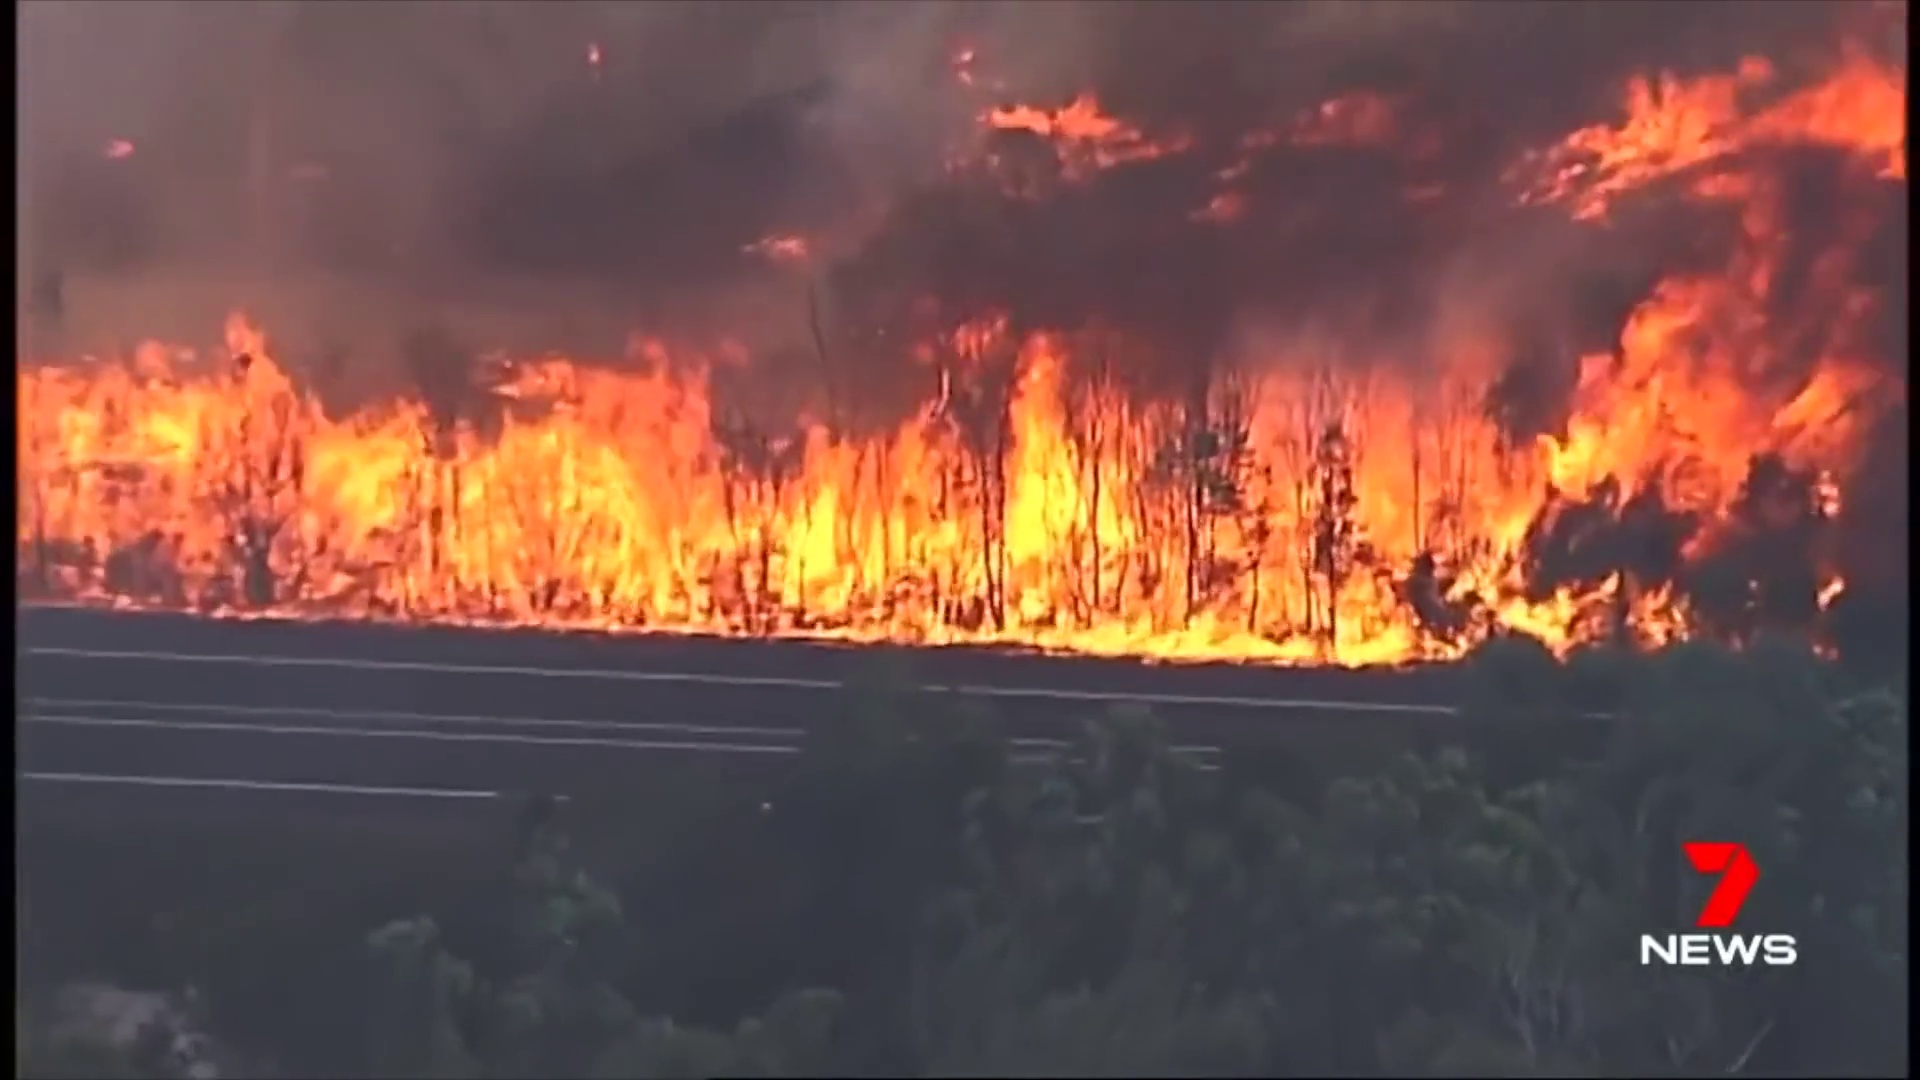fire: (22, 351, 1559, 655), (1557, 302, 1749, 506), (1585, 66, 1902, 186), (993, 94, 1122, 141), (1784, 376, 1851, 464), (1629, 580, 1692, 653)
